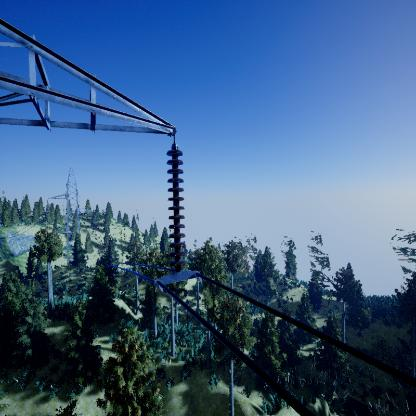insulator: (166, 146, 191, 271)
